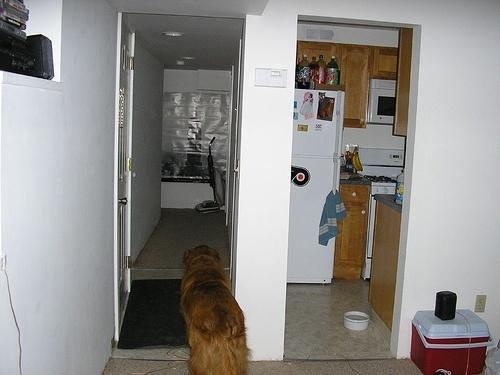bottle: (325, 55, 341, 89), (299, 54, 313, 89), (395, 169, 406, 206), (318, 54, 328, 86), (310, 56, 320, 75)
dog: (178, 243, 249, 375)
